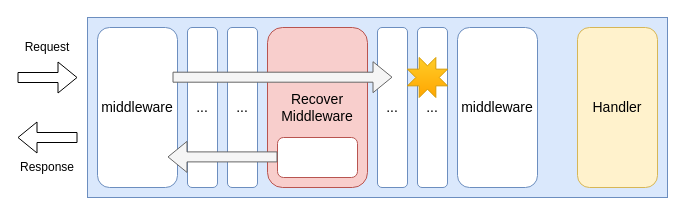
Image size: 685x215. Some labels were removed from this diagram. The centre of each missing label's shape, as x and y in pixels:
Catch the panic: pixel 317 157
panic: pixel 427 77
